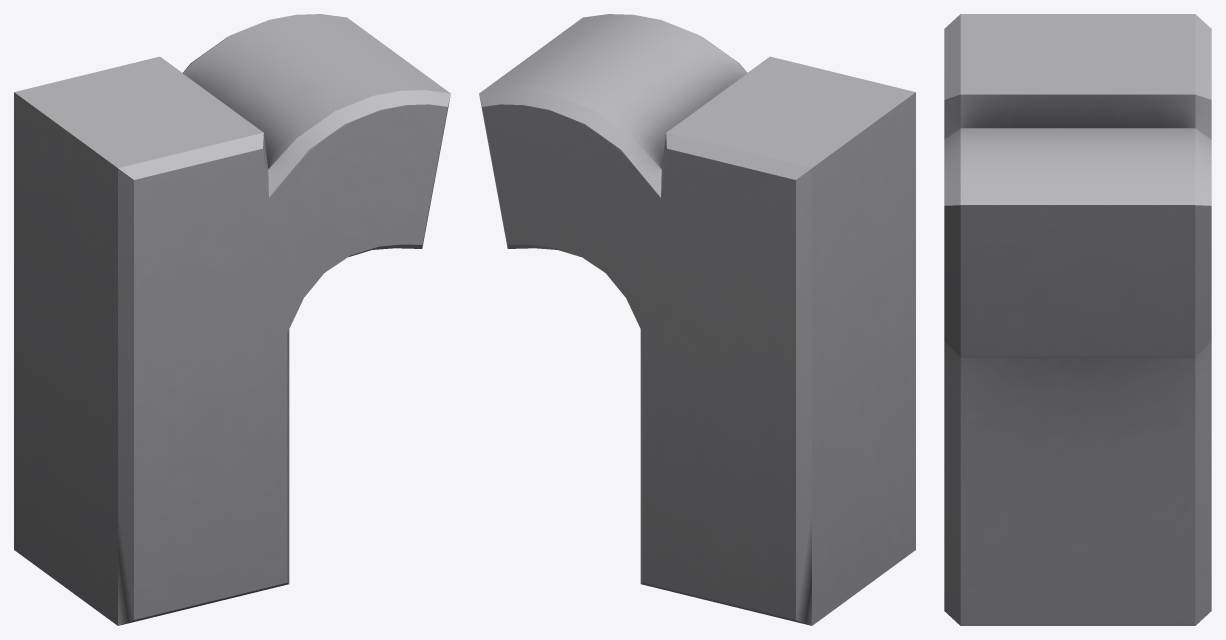
Rendered from r_lowc_static.fbx.
The picture shows the model from 3 angles, left to right: view 1: azimuth 30°, elevation 25°; view 2: azimuth 150°, elevation 25°; view 3: azimuth 270°, elevation 25°; orthographic projection. The views are drawn at different scales.
Visible parts, largest first — view 1: r_lowc_static; view 2: r_lowc_static; view 3: r_lowc_static.
Boxes of the visible parts, box(x1,y1,x2,y2) form: r_lowc_static: box(14, 14, 450, 625); r_lowc_static: box(479, 14, 915, 625); r_lowc_static: box(944, 14, 1211, 625).
Size of the model in its own units: 53.65 by 72.02 by 33.
